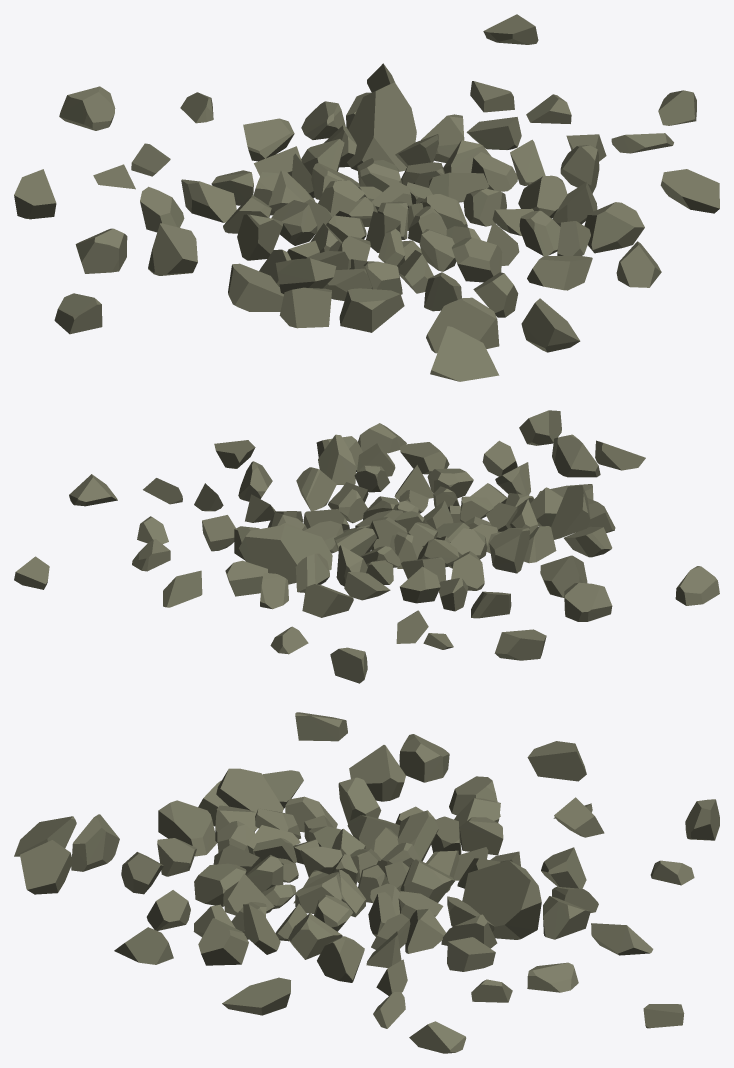
The picture shows the model from 3 angles, top to bottom: view 1: azimuth 30°, elevation 25°; view 2: azimuth 150°, elevation 25°; view 3: azimuth 270°, elevation 25°; orthographic projection. The views are drawn at different scales.
Parts seen in each view (by area): view 1: Cube_cell.018; view 2: Cube_cell.018; view 3: Cube_cell.018.
Part boxes in pixels (bbox=[...]): Cube_cell.018: bbox=[14, 14, 719, 381]; Cube_cell.018: bbox=[14, 410, 719, 683]; Cube_cell.018: bbox=[14, 712, 719, 1053].
Size of the model in its own units: 1582 by 162 by 1432.
